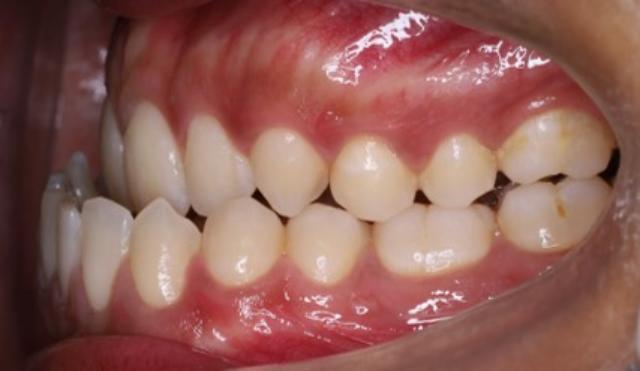canine class III full class: (126, 108, 330, 308)
molar class III full class: (371, 97, 624, 278)
